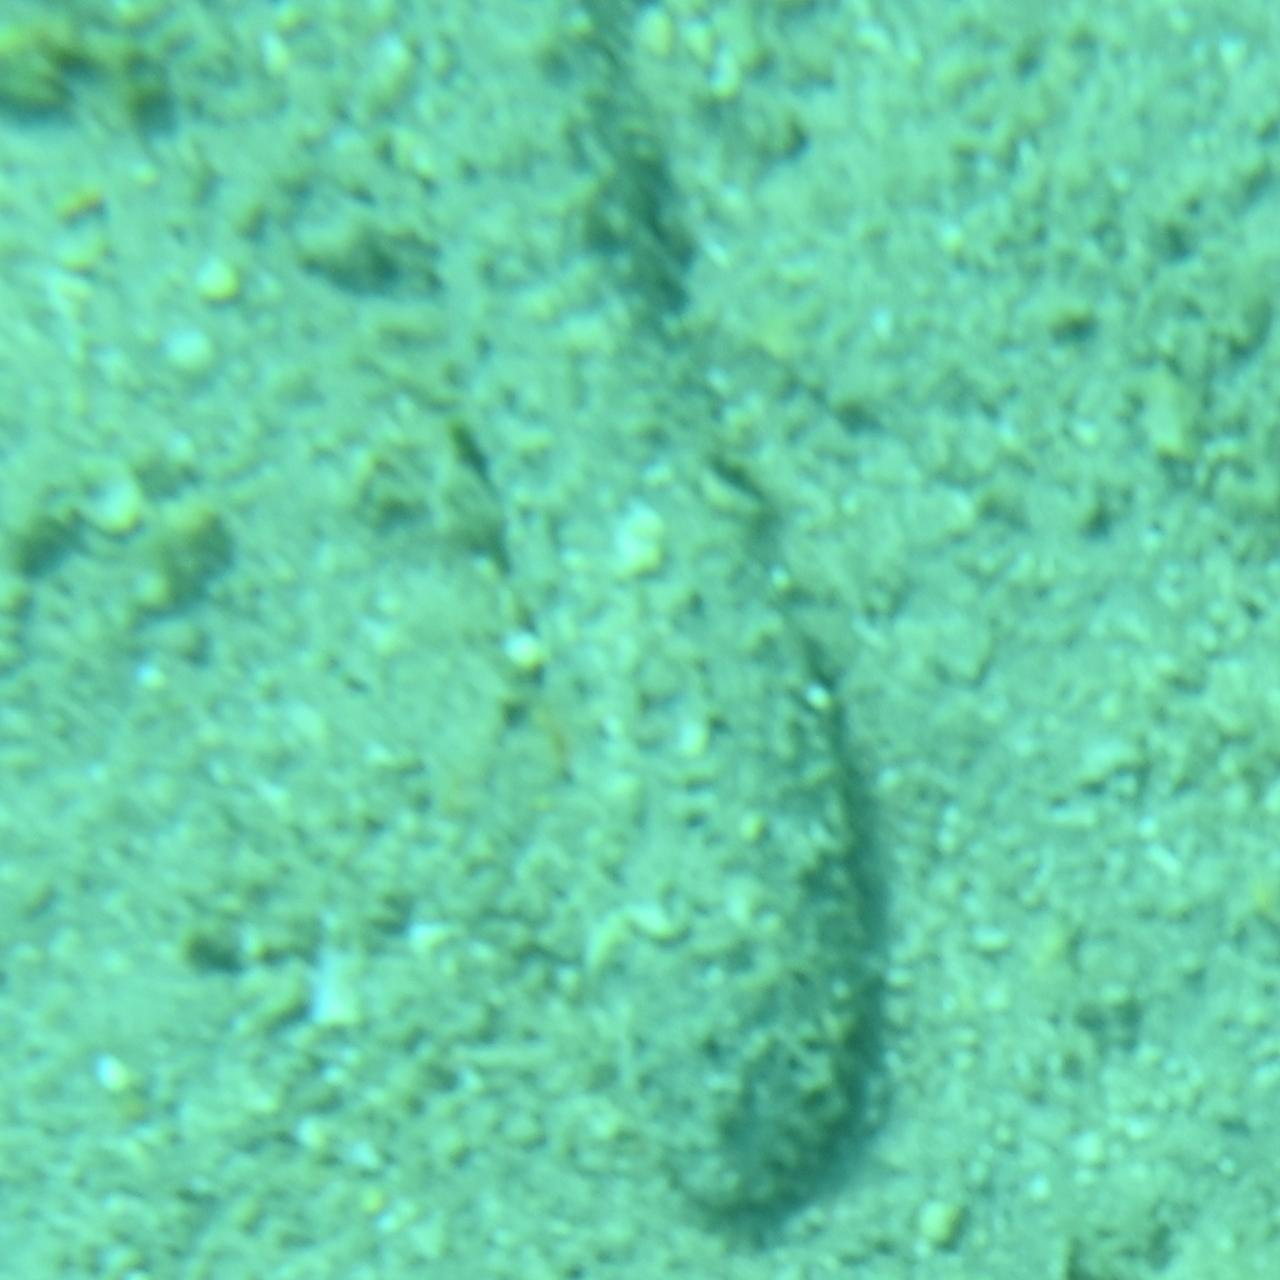Holothuria tubulosa: (368, 1, 912, 1255)
